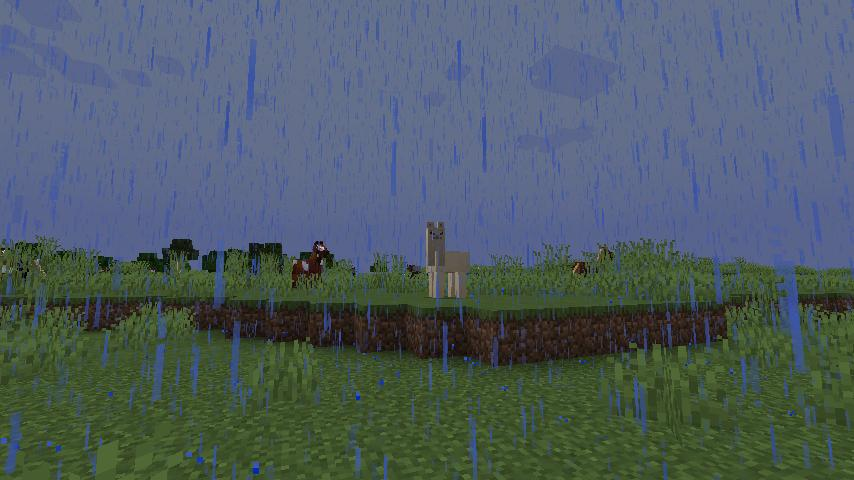llama: (421, 218, 475, 299)
